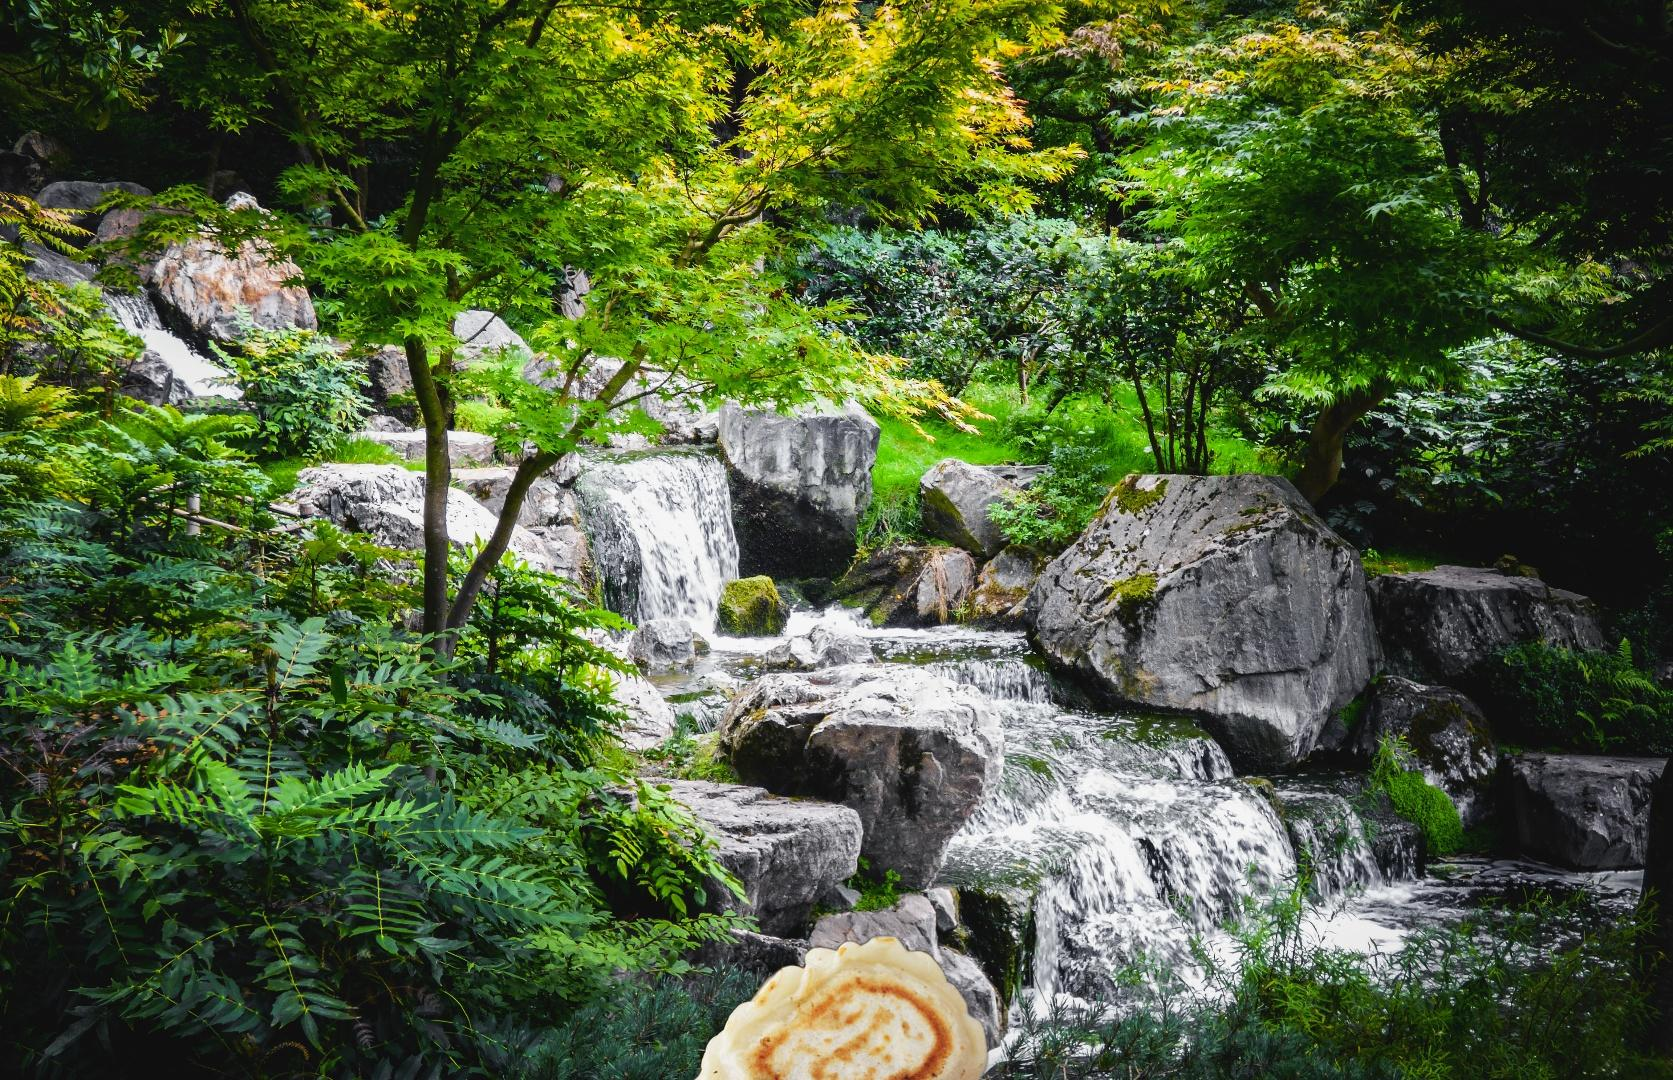biological: (604, 845, 993, 1080)
shoes: (747, 1075, 951, 1080)
